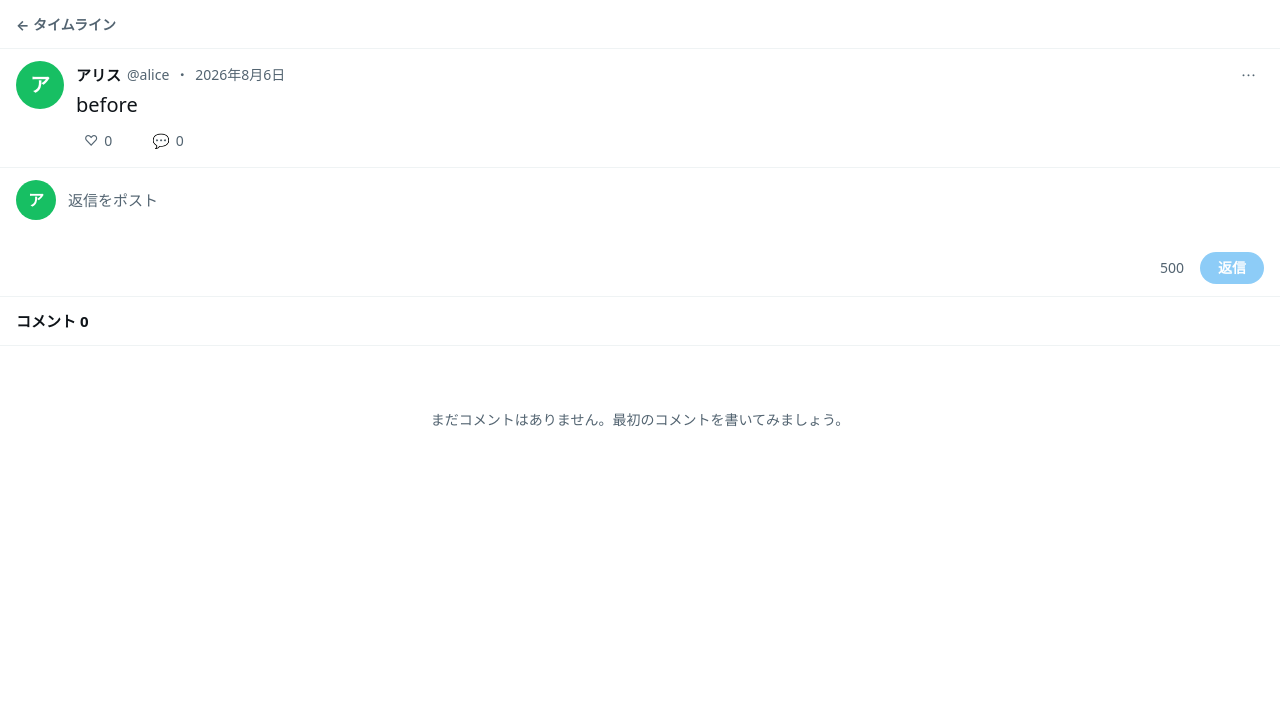
PostDetailPage › 自分の投稿を編集すると updatePost の結果で本体を差し替える
This screenshot has width=1280, height=720.
Expected: the text "before" is shown, [76,91,138,118]
Click the button "⋯".
click(1248, 75)  # box [1233,61,1264,89]
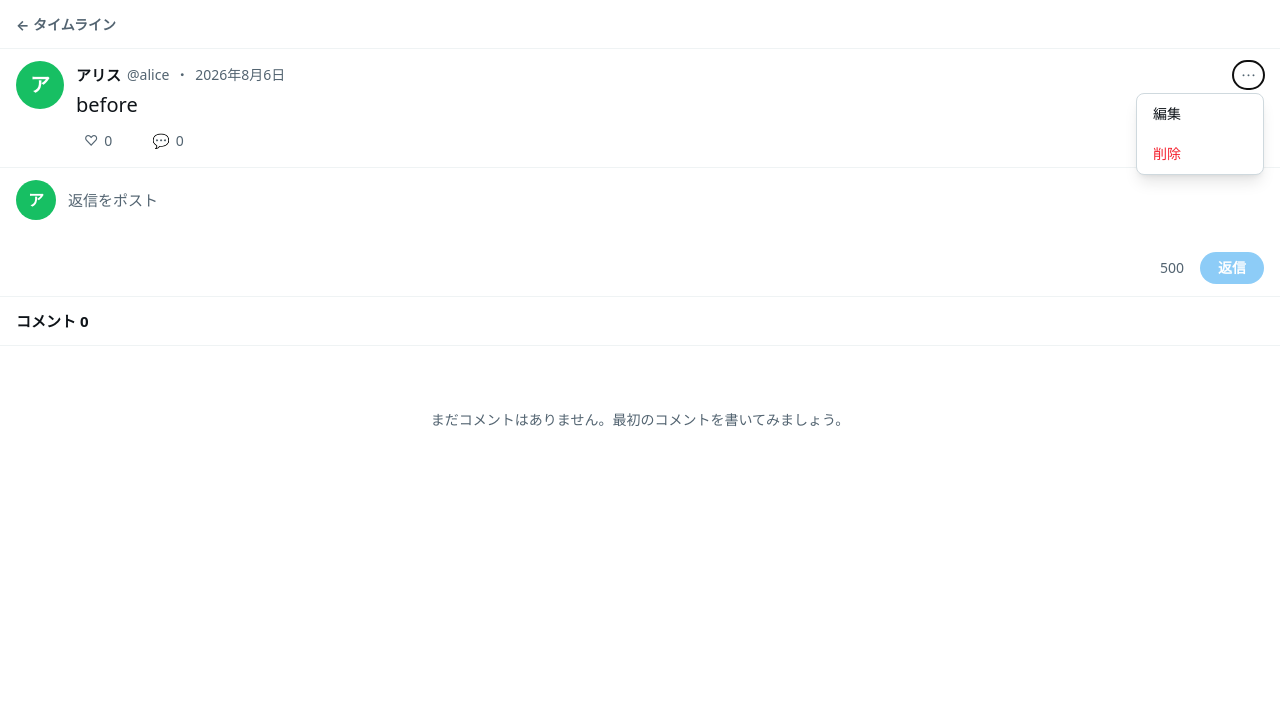
Click the button "編集".
click(1200, 114)  # box [1137,94,1263,134]
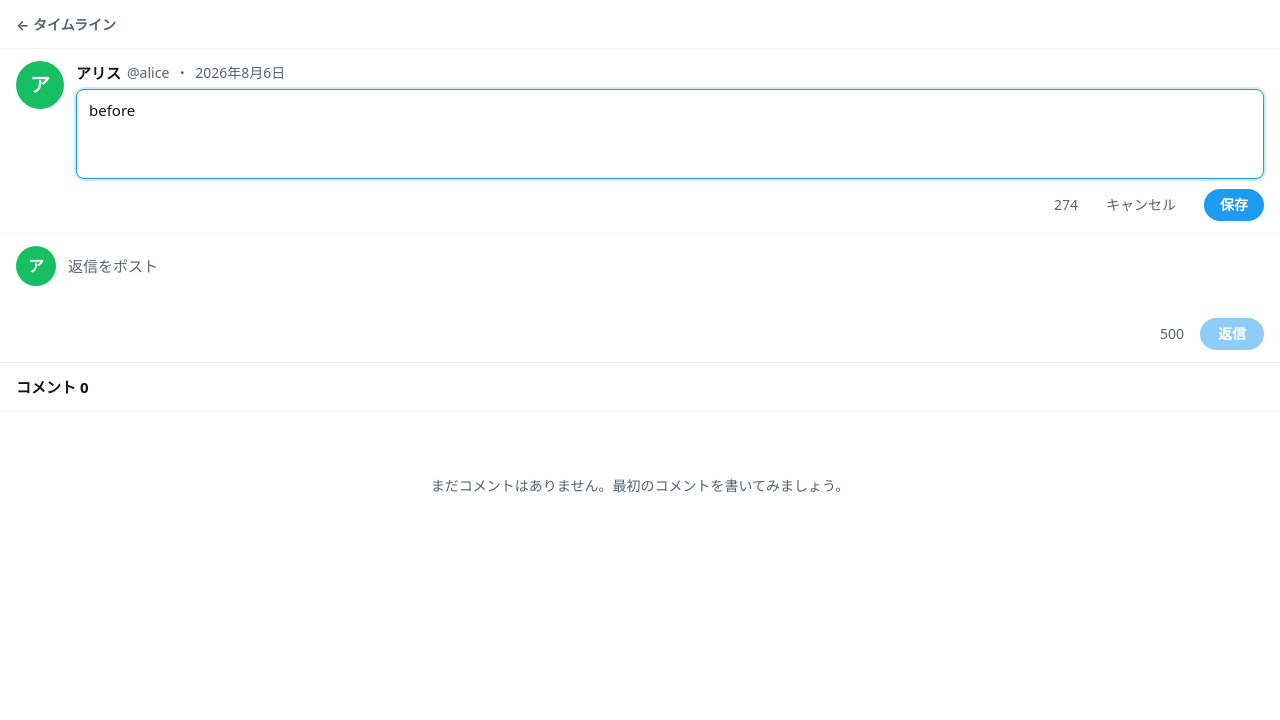
Replace the text in the text box named "投稿の本文を編集" with "after" at (670, 134), box [76,89,1264,179]
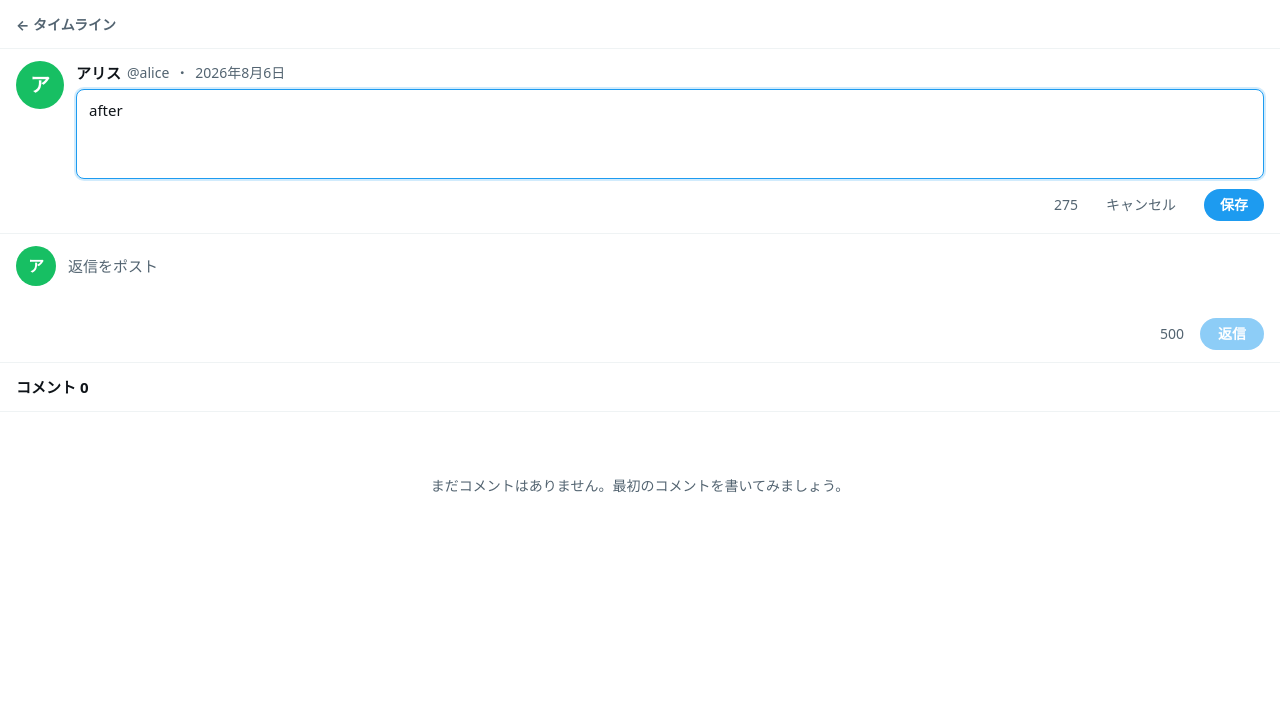
Click the button "保存".
click(1234, 205)  # box [1204,189,1264,221]
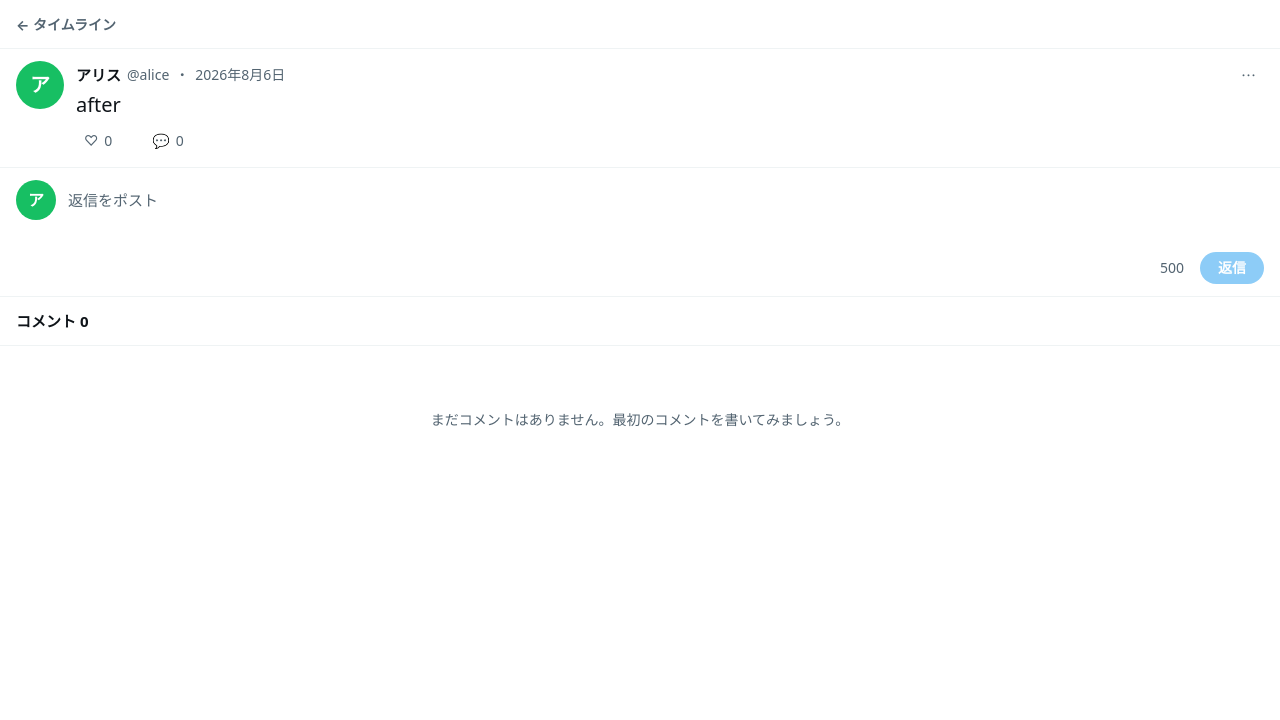
Expected: the text "after" is shown, [76,91,121,118]
